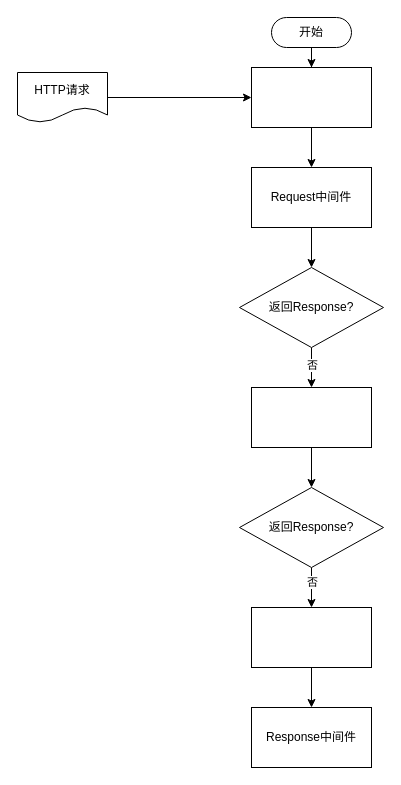
The diagram is 401 pixels wide and 785 high, and some of its shapes have lost their labels. Each missing label, with the box of its shape:
View中间件: (250, 386, 372, 448)
将HTTP请求打包成HttpRequest对象: (250, 66, 372, 128)
调用view视图函数: (250, 606, 372, 668)
